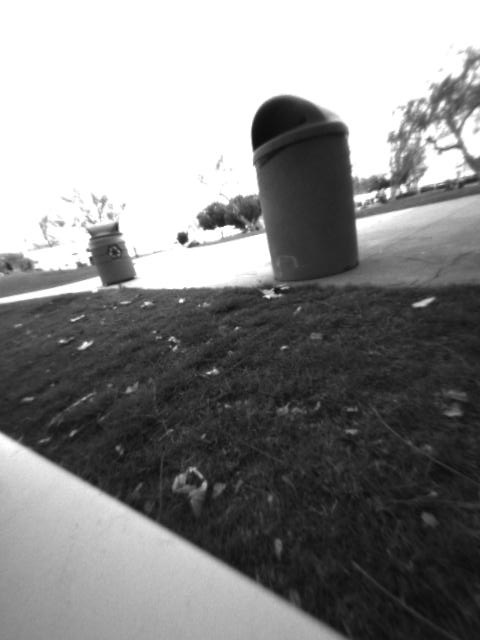trashcan: (248, 94, 365, 279)
